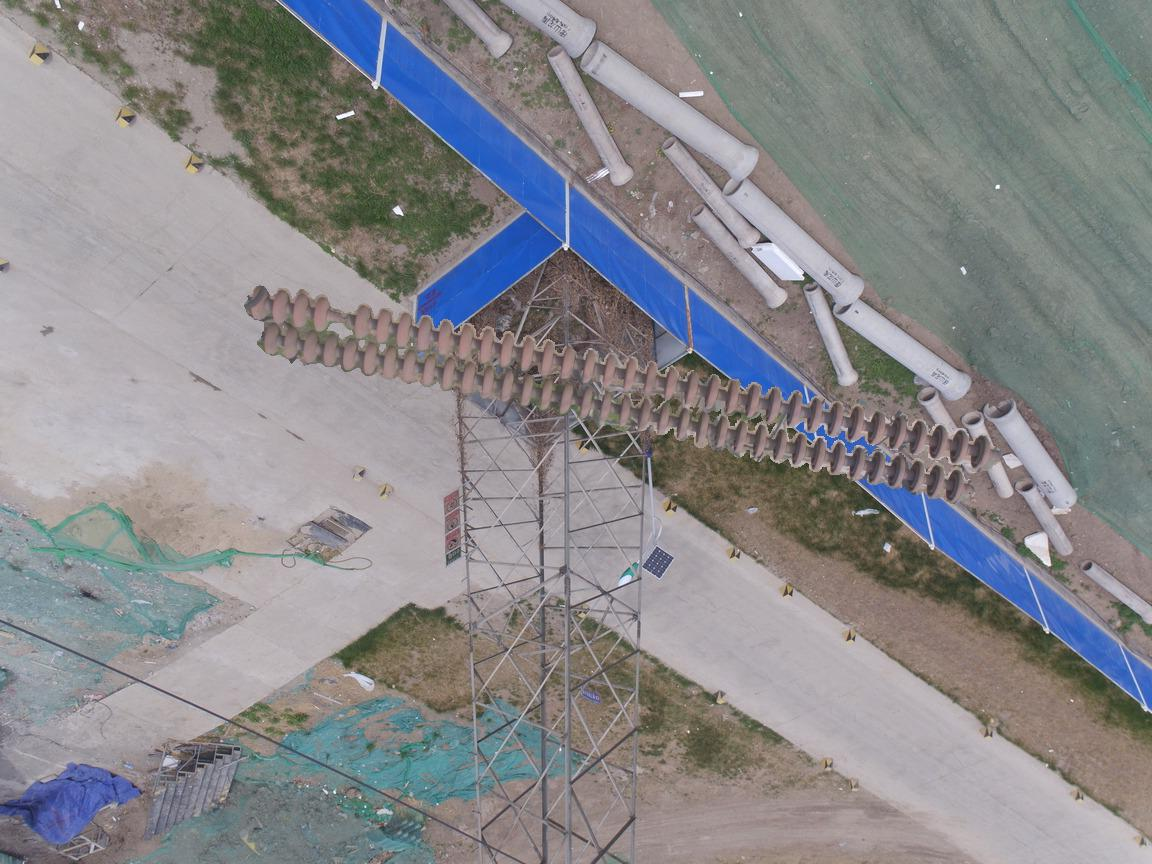insulator: (243, 278, 999, 506)
insulator_stringdrop: (312, 292, 374, 342)
